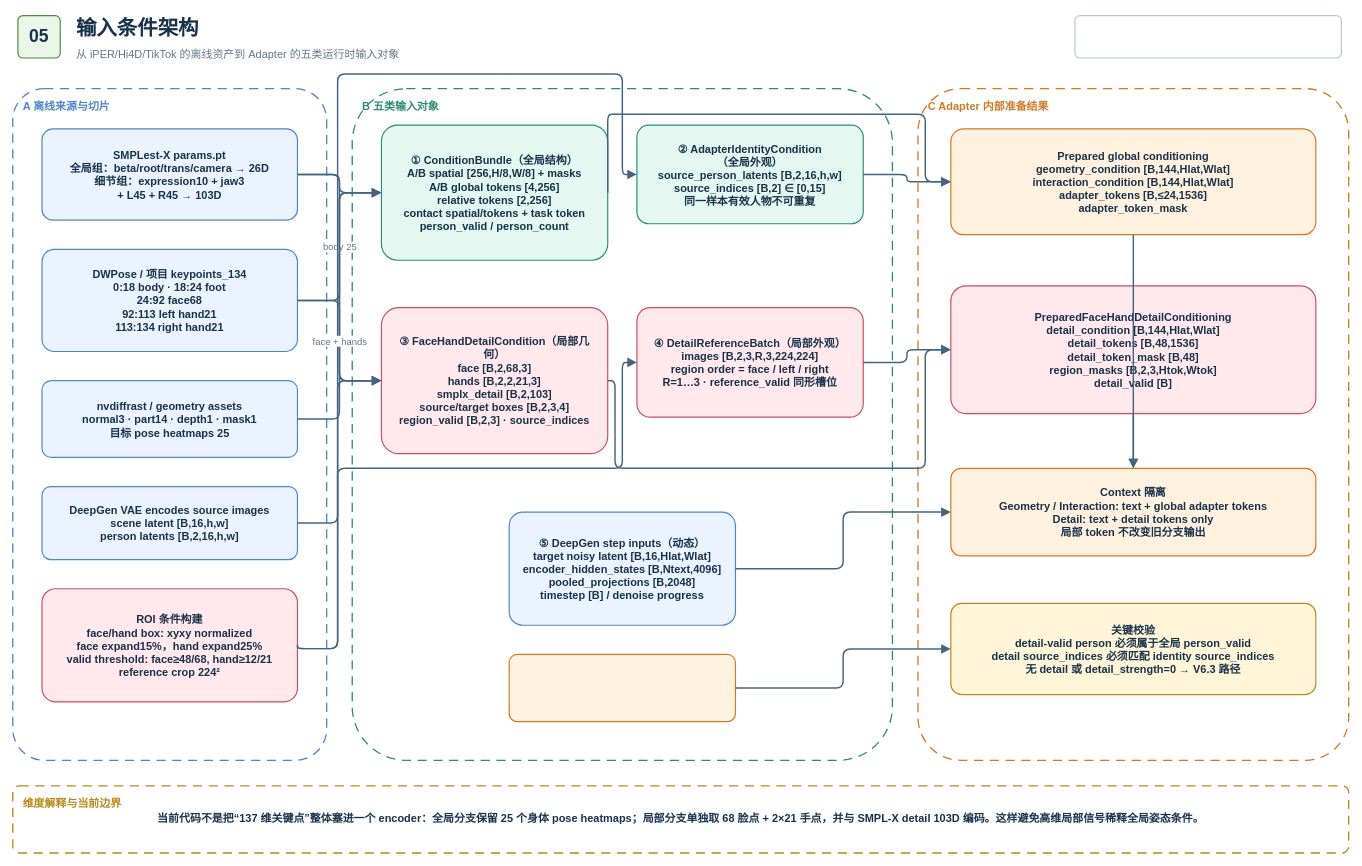
The diagram is 1362 pixels wide and 866 high, and some of its shapes have lost their labels. The shapes that lost their labels are listed below. From the top down, each one's centre as x and y in pixels, then its label:
At pixel 1208 36: "蓝=输入 绿=编码 紫=推理 橙=Adapter 红=Detail 灰=冻结".
At pixel 622 687: "运行时调节 geometry_strength interaction_strength detail / face / hand strength".
